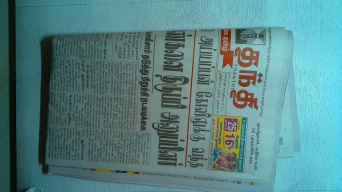p: (41, 23, 312, 192)
